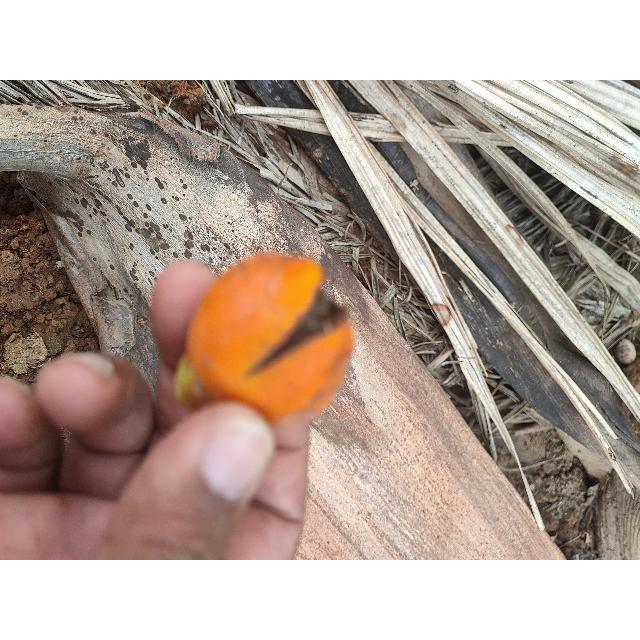damaged: (180, 252, 353, 449)
